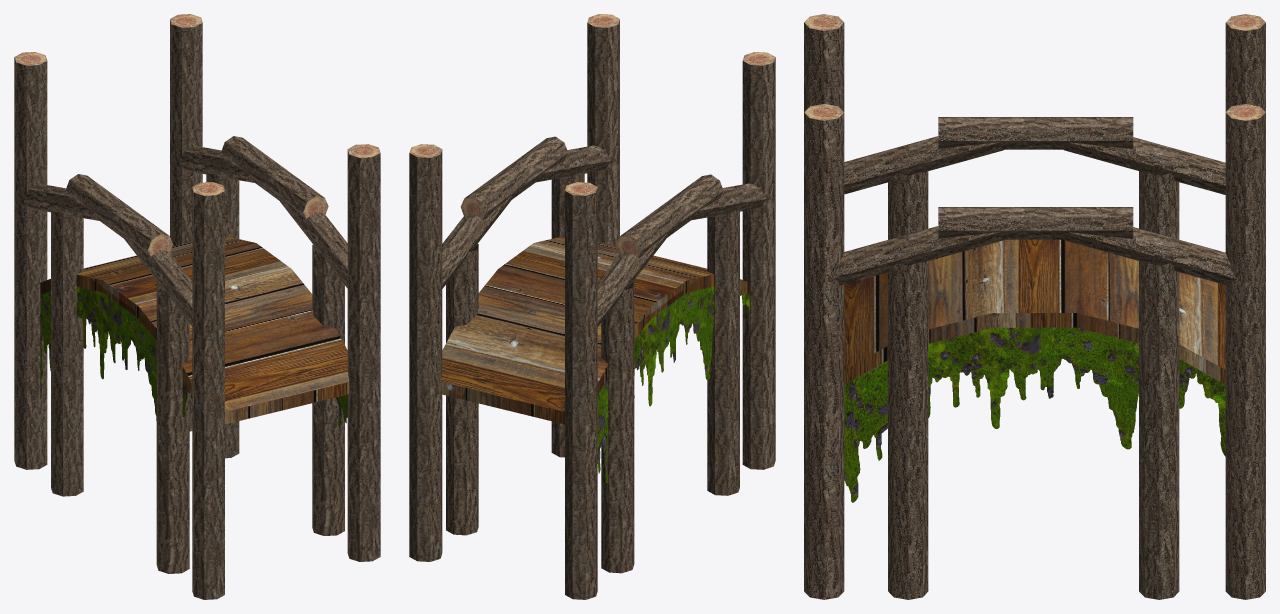
The model's file is bridge.fbx.
The picture shows the model from 3 angles, left to right: view 1: azimuth 30°, elevation 25°; view 2: azimuth 150°, elevation 25°; view 3: azimuth 270°, elevation 25°; orthographic projection. The views are drawn at different scales.
Visible parts, largest first — view 1: Circle.001, Circle, Plane; view 2: Circle.001, Circle, Plane; view 3: Circle, Plane, Circle.001.
Boxes of the visible parts, x1,y1,x2,y2 form: Circle.001: [14, 52, 224, 599]; Circle: [170, 14, 380, 561]; Plane: [40, 237, 349, 428]; Circle.001: [565, 52, 775, 599]; Circle: [409, 14, 619, 561]; Plane: [440, 237, 749, 484]; Circle: [804, 104, 1265, 599]; Plane: [844, 239, 1225, 502]; Circle.001: [804, 14, 1265, 239].
Bounding box in the file's own units: 480 × 1003 × 876.
